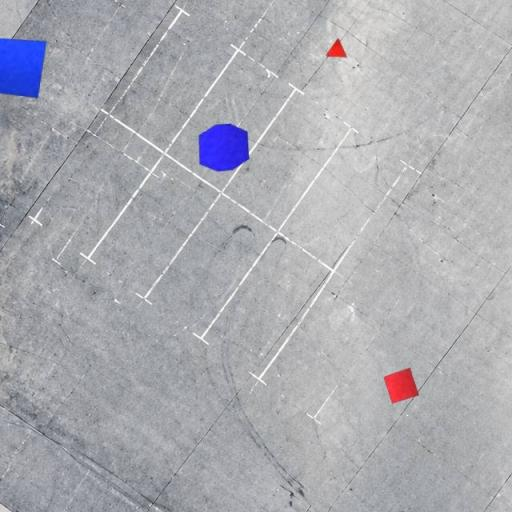BLUE_SQUARE: (0, 38, 47, 99)
RED_SQUARE: (382, 367, 420, 404)
